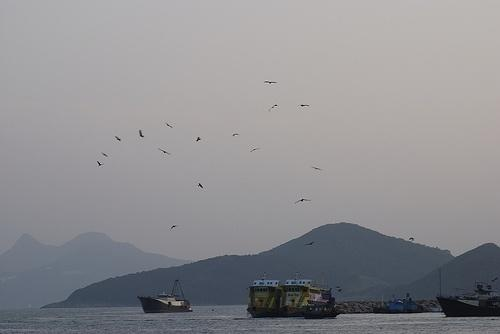boat: (433, 278, 500, 318), (280, 273, 334, 318), (137, 277, 194, 313), (245, 273, 281, 318), (371, 292, 426, 314)
